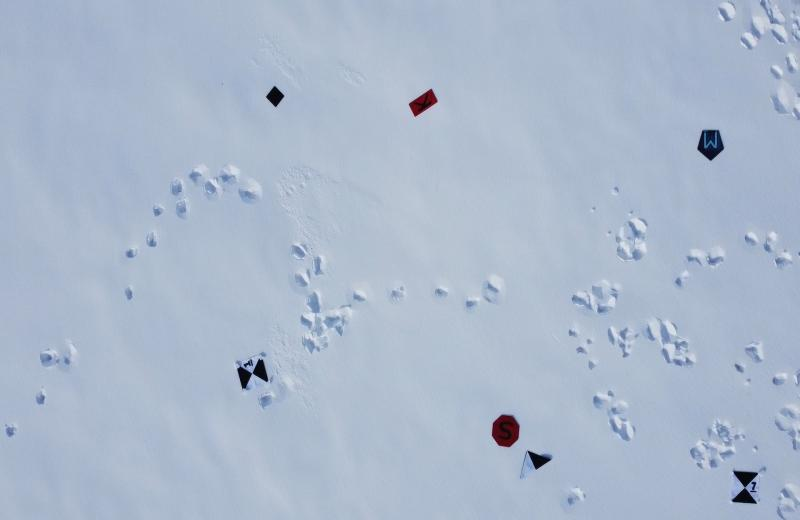Octagon: (487, 414, 523, 451)
Pentagon: (694, 124, 727, 164)
Rectangle: (404, 86, 440, 120)
Square: (263, 84, 286, 110)
